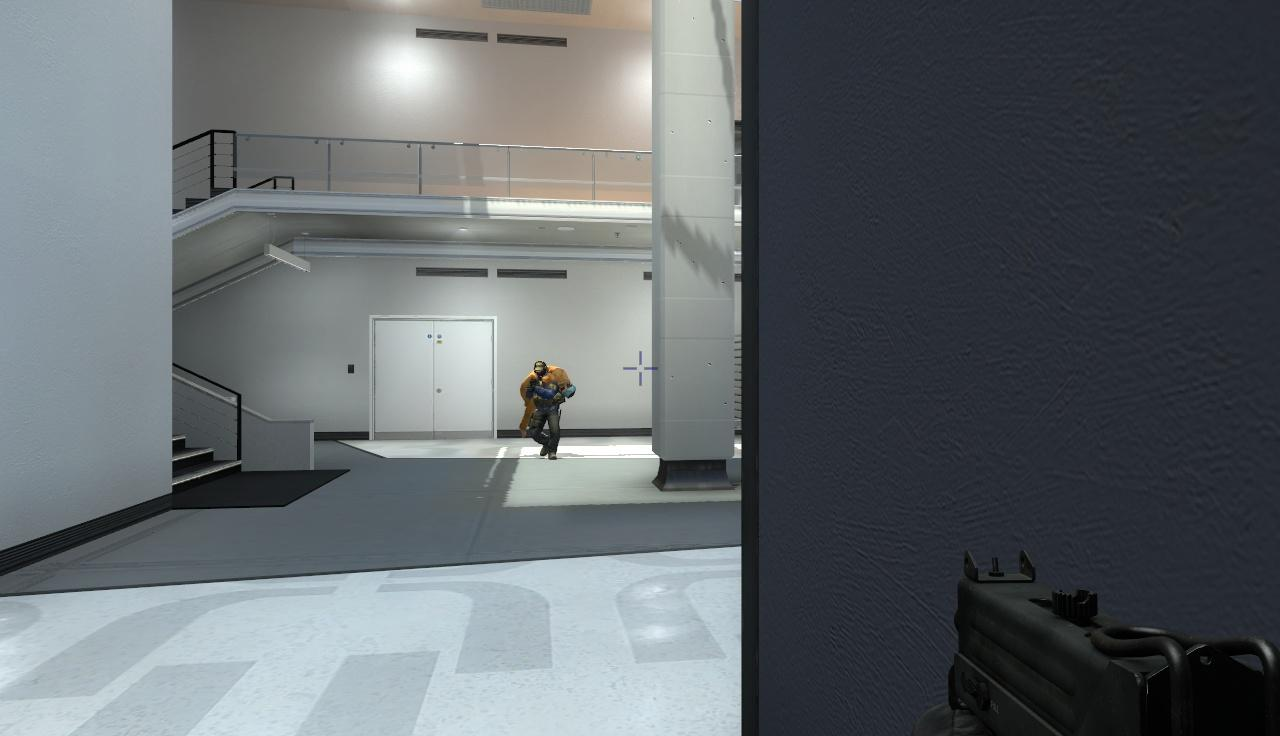ct: (530, 361, 559, 461)
cthead: (535, 361, 547, 376)
rifle: (953, 543, 1280, 736)
